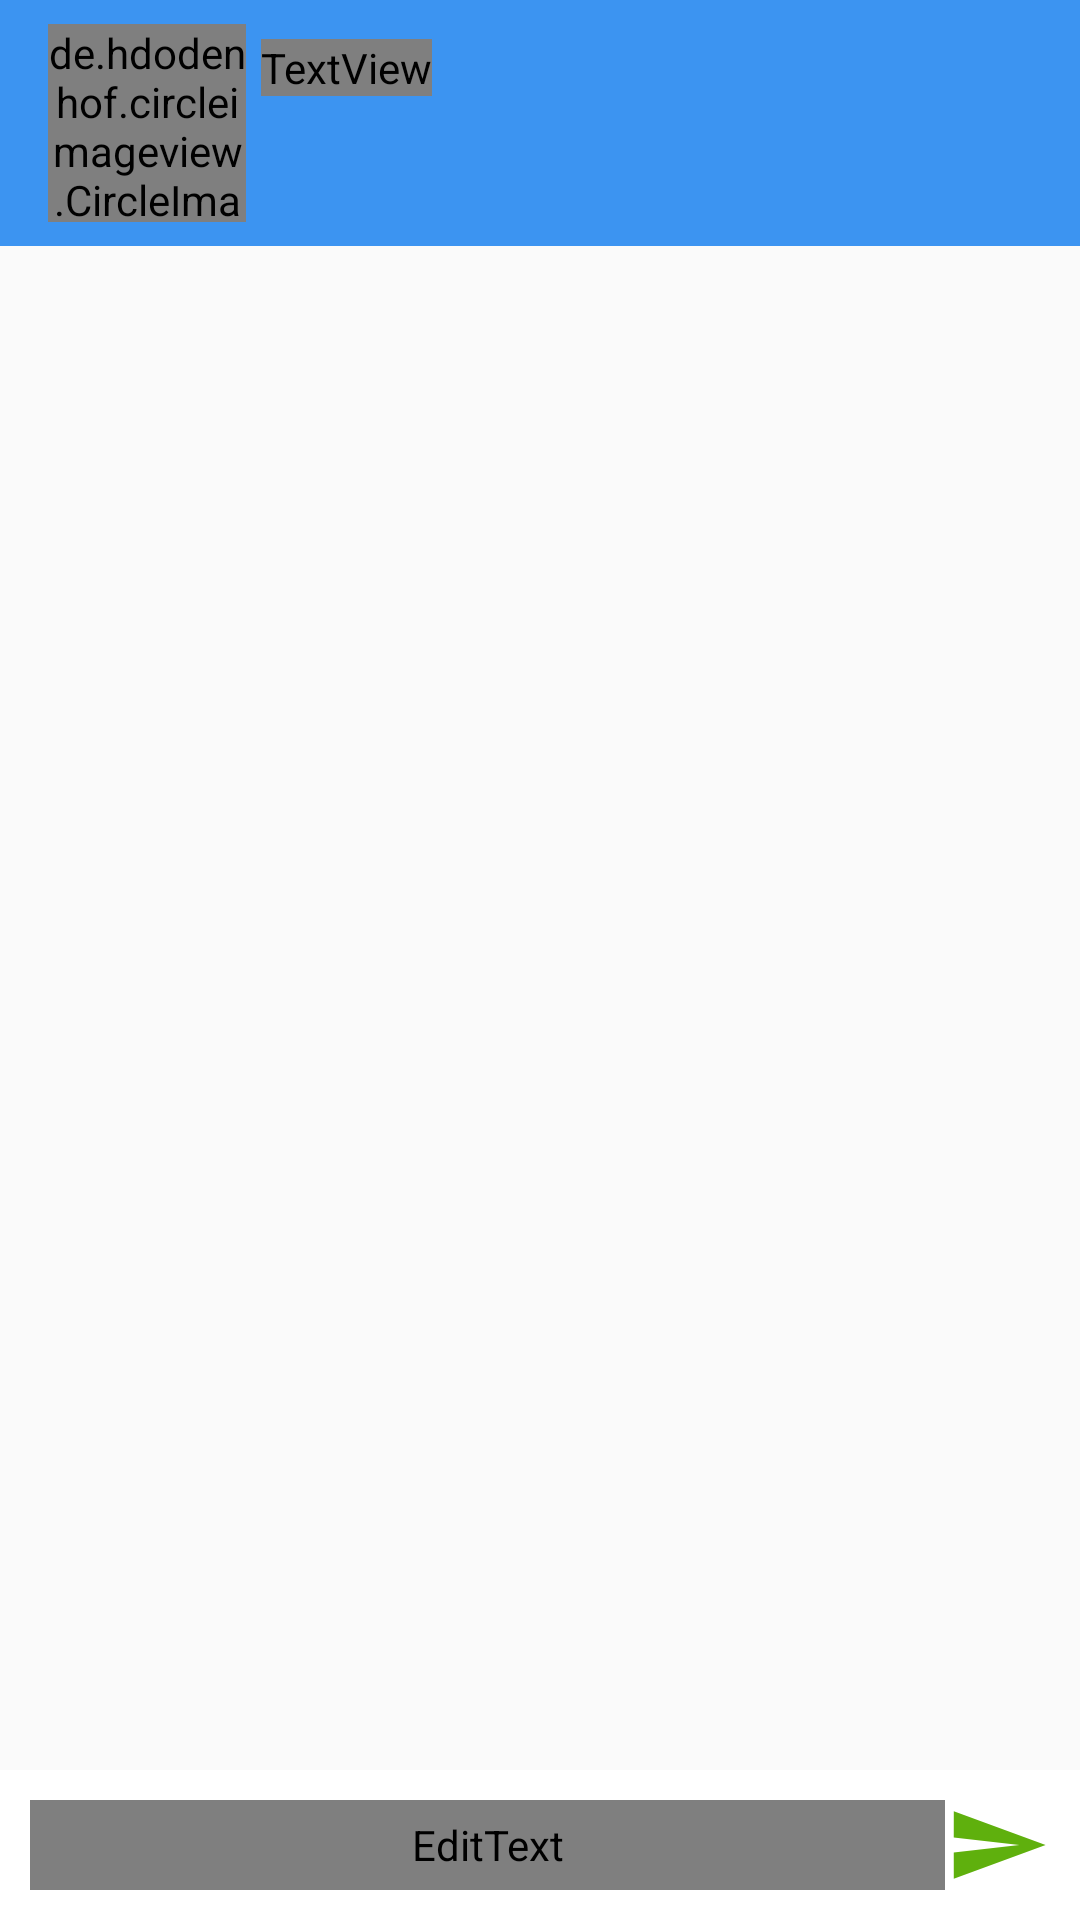

Icons on this 1080 x 1920 Android screen, each with its box as (x1, y1, x2, y2):
send: (953, 1811, 1045, 1879)
